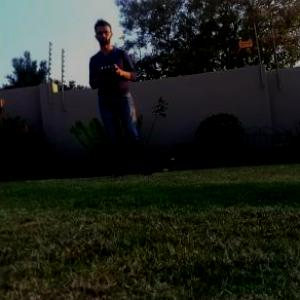follow: (86, 13, 160, 181)
